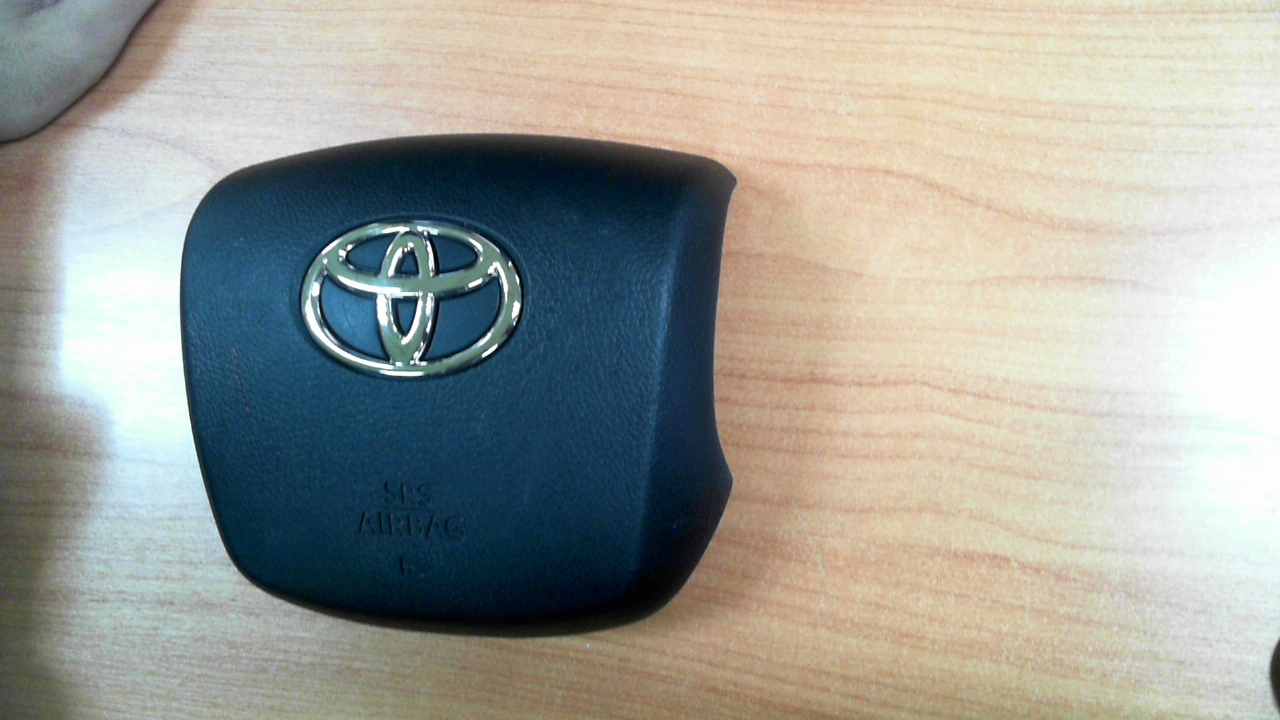Airbag: (178, 133, 738, 641)
Toyota: (301, 222, 522, 377)
